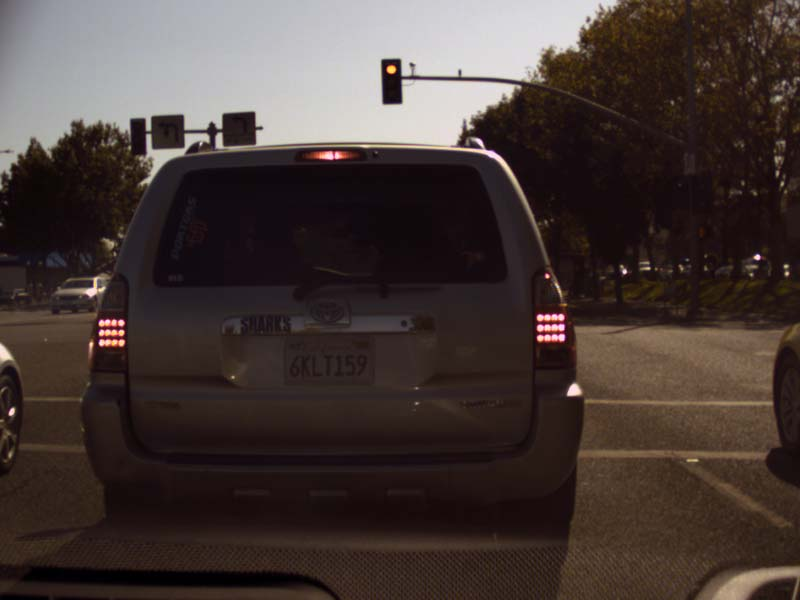Red: (380, 58, 402, 103)
